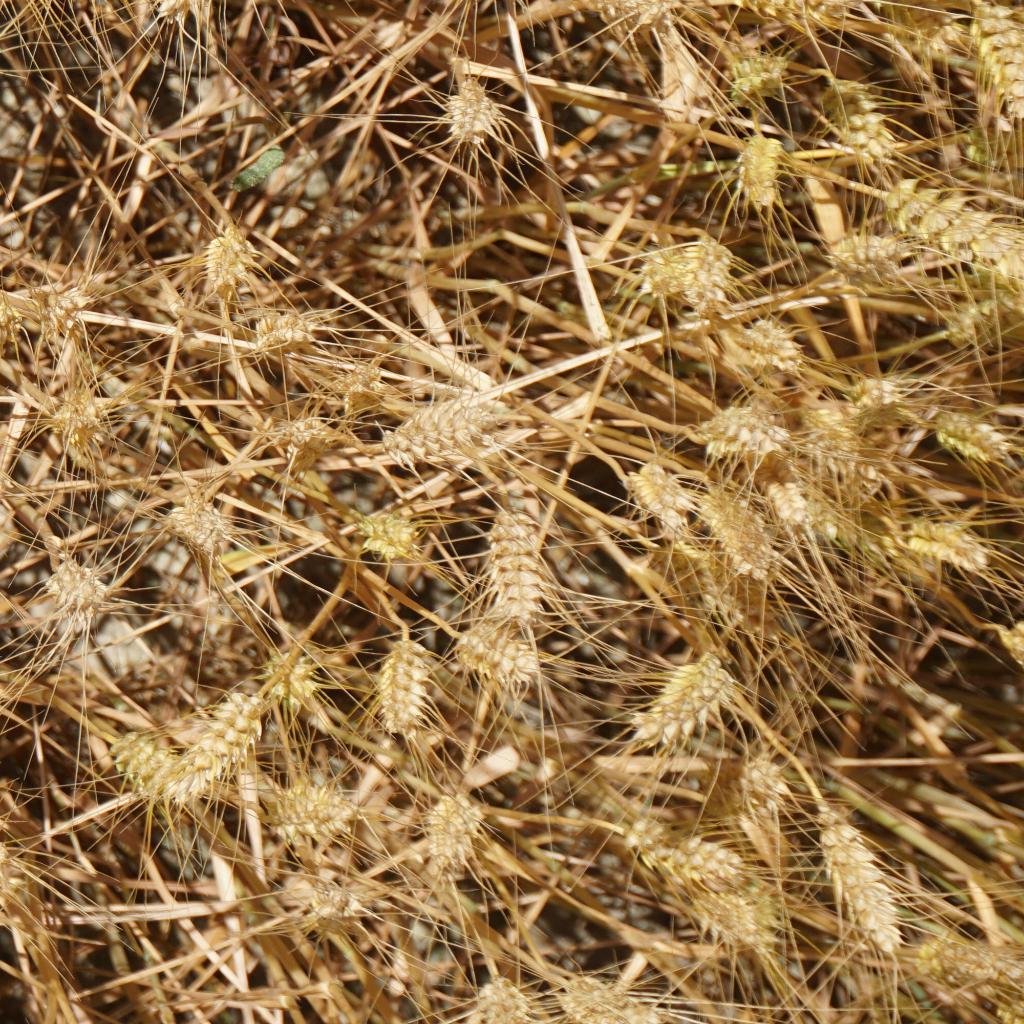0-0: (876, 175, 1022, 279), (819, 812, 896, 942), (638, 645, 732, 750), (179, 700, 261, 802), (103, 719, 192, 812), (485, 488, 546, 622), (902, 923, 1021, 991), (625, 811, 736, 883), (821, 65, 897, 165), (608, 456, 693, 543), (802, 399, 872, 497), (390, 387, 482, 456), (705, 482, 777, 569), (452, 626, 543, 693), (410, 796, 487, 875), (385, 632, 443, 736), (439, 66, 507, 154), (667, 530, 737, 615), (901, 504, 987, 573), (970, 0, 1024, 109), (826, 221, 914, 286), (693, 876, 764, 948), (923, 402, 1000, 465), (242, 299, 321, 360), (39, 552, 108, 621), (268, 773, 346, 834), (559, 966, 640, 1024), (253, 645, 313, 721), (27, 274, 93, 338), (708, 401, 786, 455), (876, 0, 961, 49), (166, 497, 227, 562), (739, 121, 787, 202), (204, 235, 259, 305), (50, 381, 105, 449), (683, 239, 735, 310), (939, 278, 991, 348), (740, 321, 804, 374), (775, 478, 829, 539), (309, 872, 360, 933), (325, 355, 381, 408), (472, 969, 525, 1024), (730, 50, 785, 102), (279, 414, 335, 465), (360, 515, 417, 561), (155, 0, 252, 27), (647, 245, 690, 300), (747, 741, 780, 812), (852, 364, 894, 418), (734, 0, 852, 18), (616, 0, 676, 35), (992, 615, 1024, 670), (0, 294, 20, 353)
